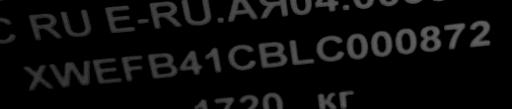letter: (47, 58, 93, 90), (20, 63, 56, 93), (90, 55, 124, 86), (287, 36, 317, 69), (256, 40, 290, 69), (144, 50, 178, 79), (226, 42, 258, 71), (117, 53, 145, 86), (315, 34, 345, 63), (177, 48, 207, 77), (468, 17, 494, 50), (442, 20, 468, 52), (343, 30, 369, 61), (394, 27, 420, 56), (418, 24, 442, 54), (369, 30, 395, 57), (202, 45, 226, 74)
